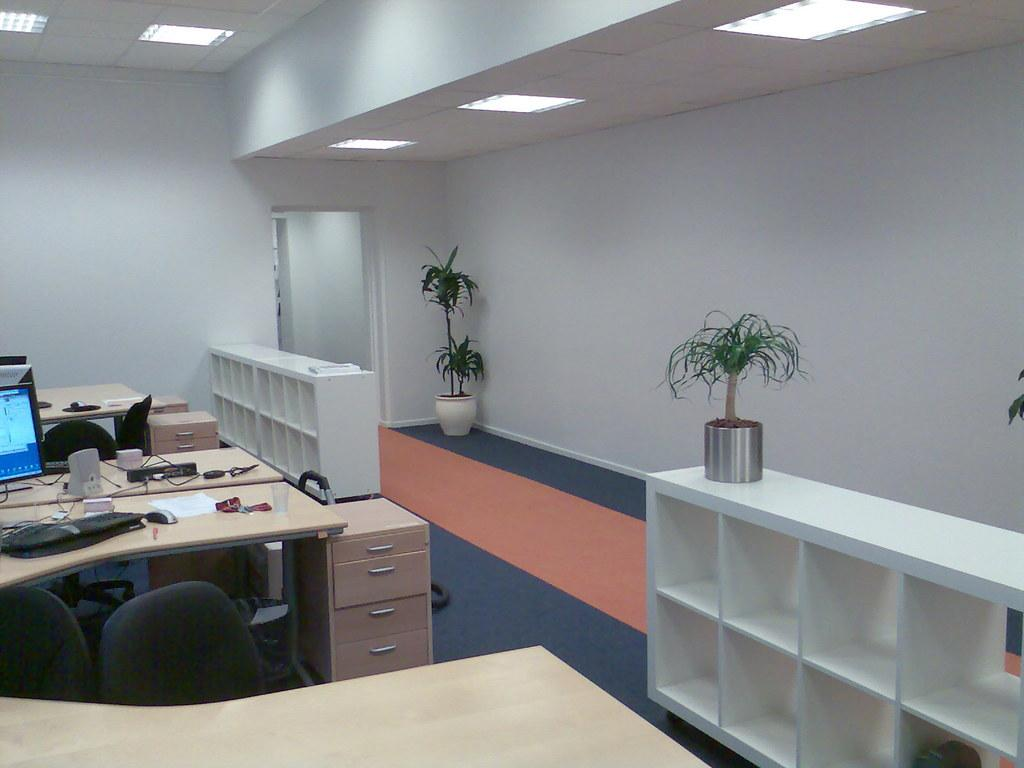cabinet_door: (336, 562, 434, 605), (346, 636, 428, 672), (345, 602, 423, 630), (336, 530, 422, 552), (154, 424, 214, 442)
handle: (366, 560, 396, 585), (370, 602, 398, 628), (368, 637, 398, 658), (367, 538, 397, 552)
